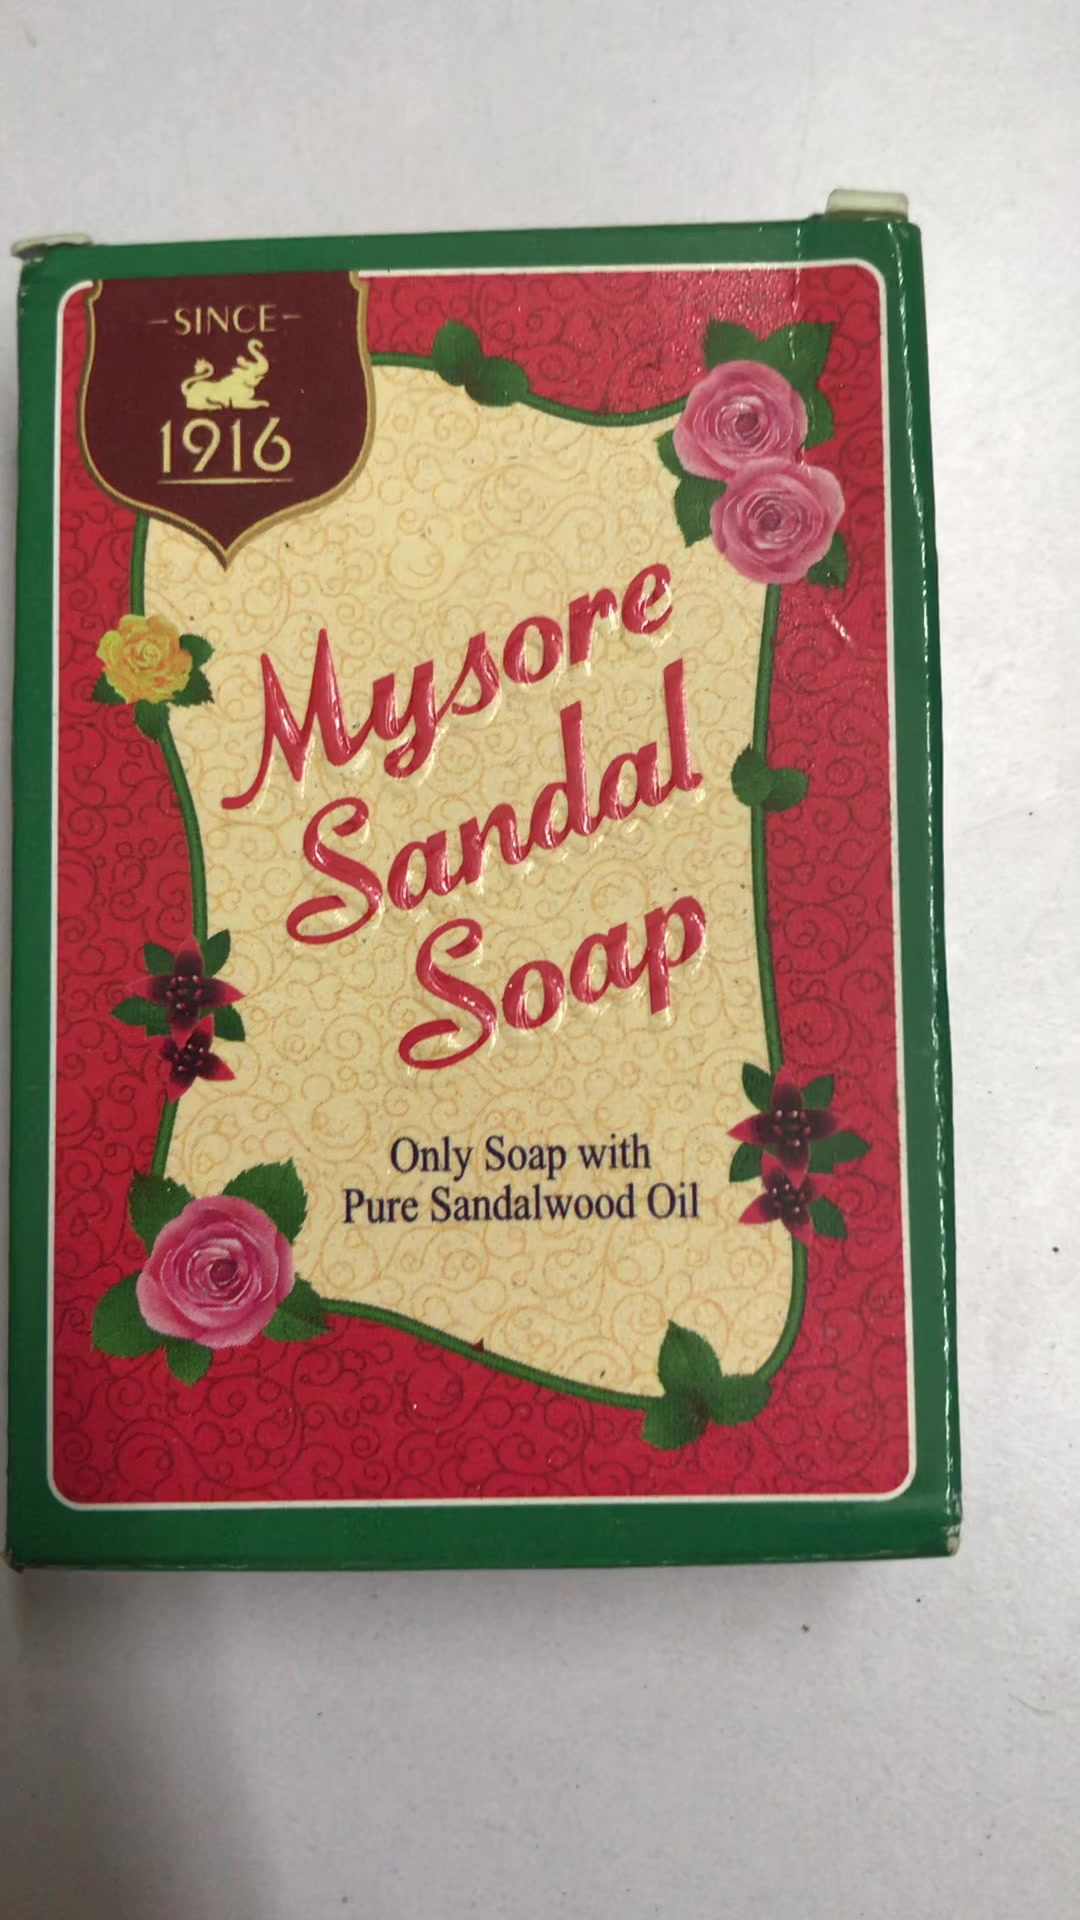mysore sandal soap: (24, 219, 943, 1565)
